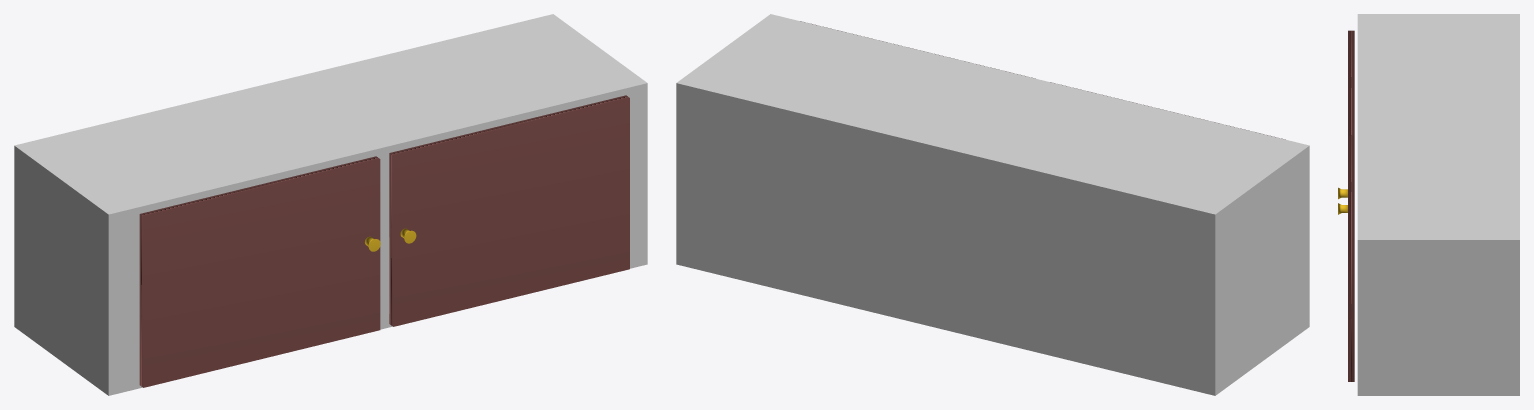
Rendered from Cabeinet.fbx.
3 views of the same model, side by side, from view 1: azimuth 30°, elevation 25°; view 2: azimuth 150°, elevation 25°; view 3: azimuth 270°, elevation 25° (orthographic). The views are drawn at different scales.
Visible parts, largest first — view 1: Cabinet, Cabinet Door left, Cabinet Door right; view 2: Cabinet; view 3: Cabinet, Cabinet Door right, Cabinet Door left.
Boxes of the visible parts, x1=… form: Cabinet: x1=14, y1=14, x2=647, y2=395; Cabinet Door left: x1=139, y1=156, x2=380, y2=387; Cabinet Door right: x1=389, y1=95, x2=629, y2=326; Cabinet: x1=676, y1=14, x2=1309, y2=395; Cabinet: x1=1357, y1=14, x2=1519, y2=395; Cabinet Door right: x1=1338, y1=135, x2=1354, y2=381; Cabinet Door left: x1=1338, y1=30, x2=1354, y2=199.
Bounding box in the file's own units: 659 × 212 × 224.
